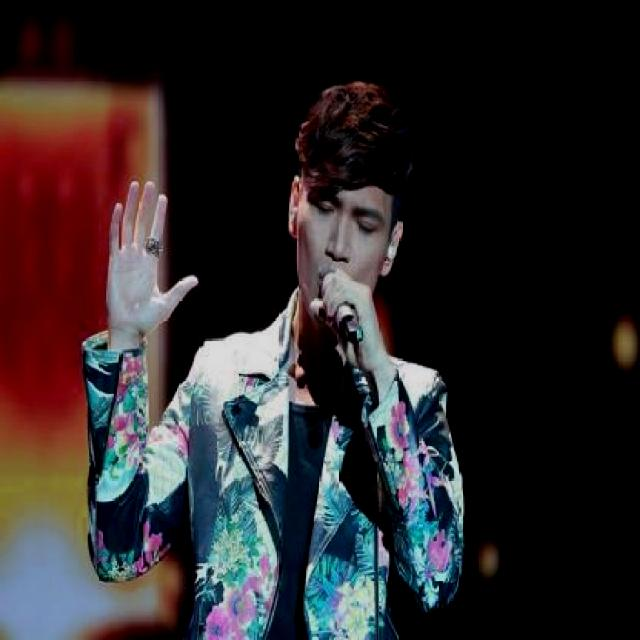face_nomask: (294, 175, 388, 297)
hand_noglove: (103, 180, 203, 334), (309, 269, 383, 374)
head_nohelmet: (289, 86, 428, 194)
person: (82, 81, 504, 640)
